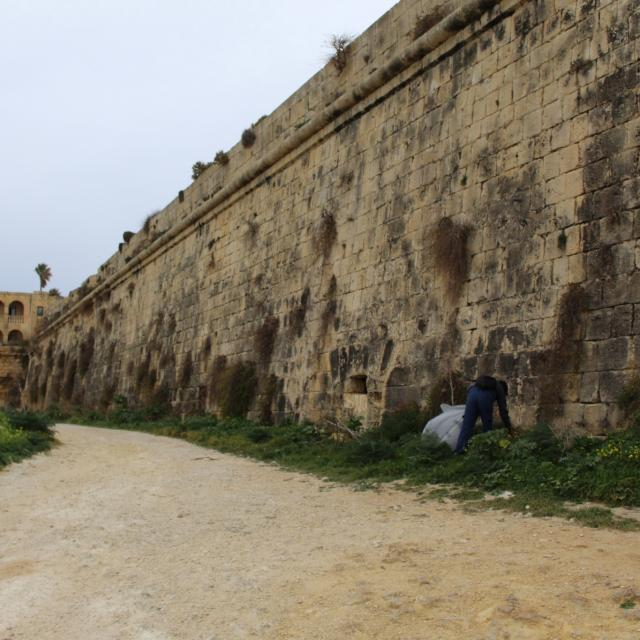Other litter: (421, 400, 462, 452)
